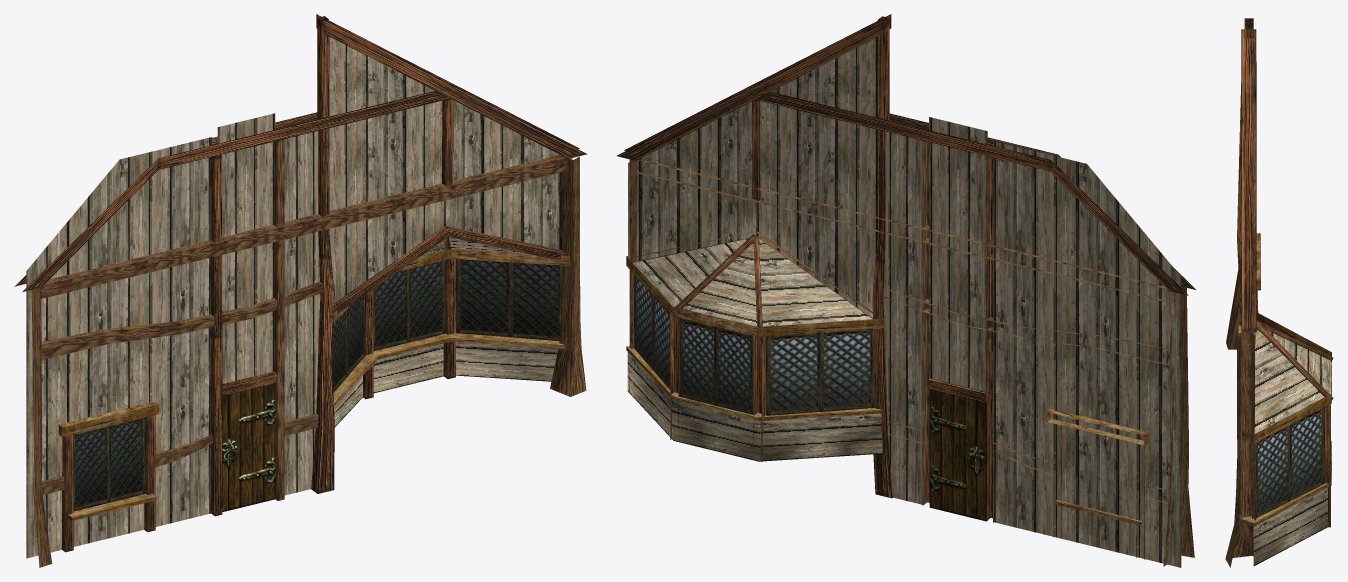
File: LAKETOWN_PUB_PS_PUB_FRONTWALL99__GX.fbx
The picture shows the model from 3 angles, left to right: view 1: azimuth 30°, elevation 25°; view 2: azimuth 150°, elevation 25°; view 3: azimuth 270°, elevation 25°; orthographic projection.
Parts seen in each view (by area): view 1: LAKETOWN_PUB_PS_PUB_FRONTWALL99__GX; view 2: LAKETOWN_PUB_PS_PUB_FRONTWALL99__GX; view 3: LAKETOWN_PUB_PS_PUB_FRONTWALL99__GX.
Part boxes in pixels (bbox=[...]): LAKETOWN_PUB_PS_PUB_FRONTWALL99__GX: bbox=[14, 14, 587, 567]; LAKETOWN_PUB_PS_PUB_FRONTWALL99__GX: bbox=[617, 14, 1195, 567]; LAKETOWN_PUB_PS_PUB_FRONTWALL99__GX: bbox=[1225, 18, 1333, 567].
Bounding box in the file's own units: 114692 × 91438 × 19101.
Materials: 11 (11 with a texture image).
